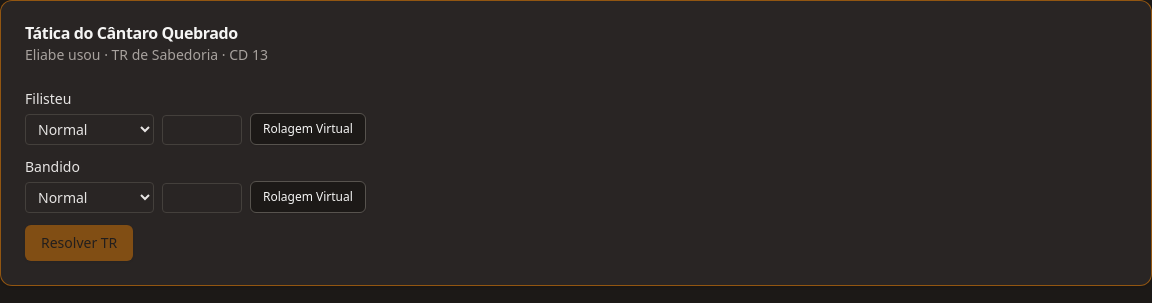
AbilityPendingPanel › enquanto resolve, o botão espera
Type "12" into the number field named "d20 de Filisteu" at (202, 130), box [162,115,242,145]
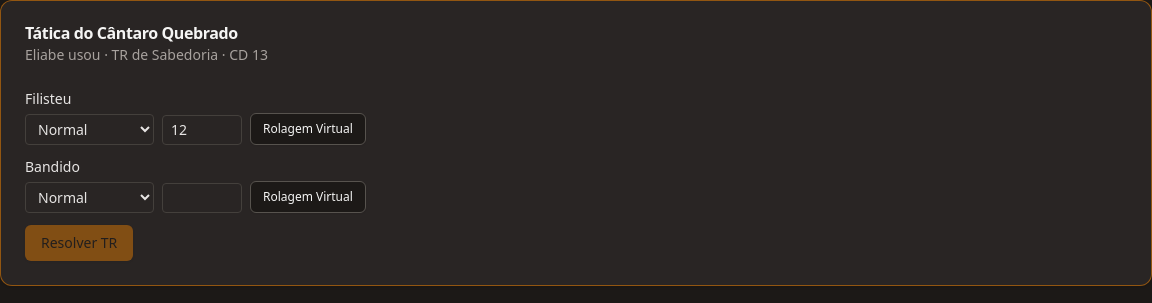
Type "7" into the number field named "d20 de Bandido" at (202, 198), box [162,183,242,213]
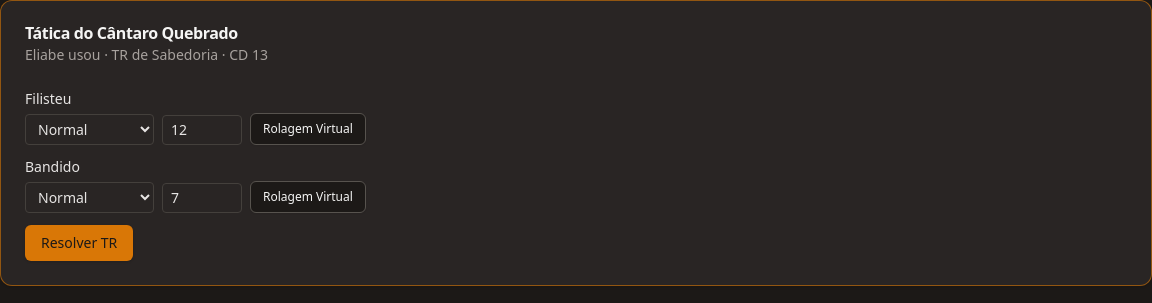
Click the button "Resolver TR" at (79, 243), box [25,225,133,261]
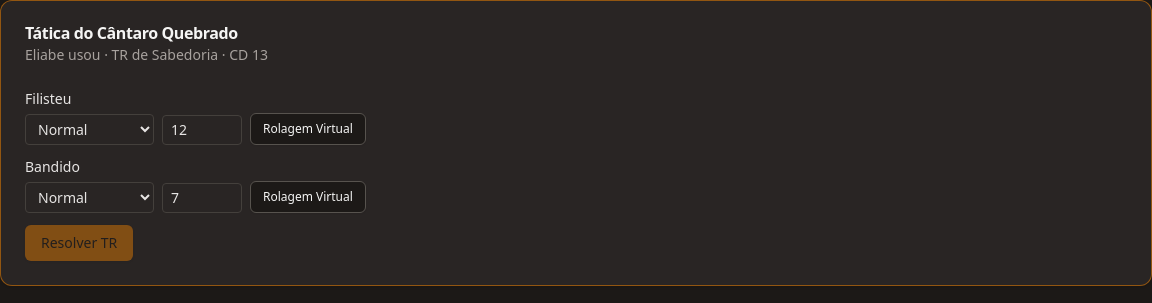
Expected: the button "Resolver TR" is disabled, [25,225,133,261]
